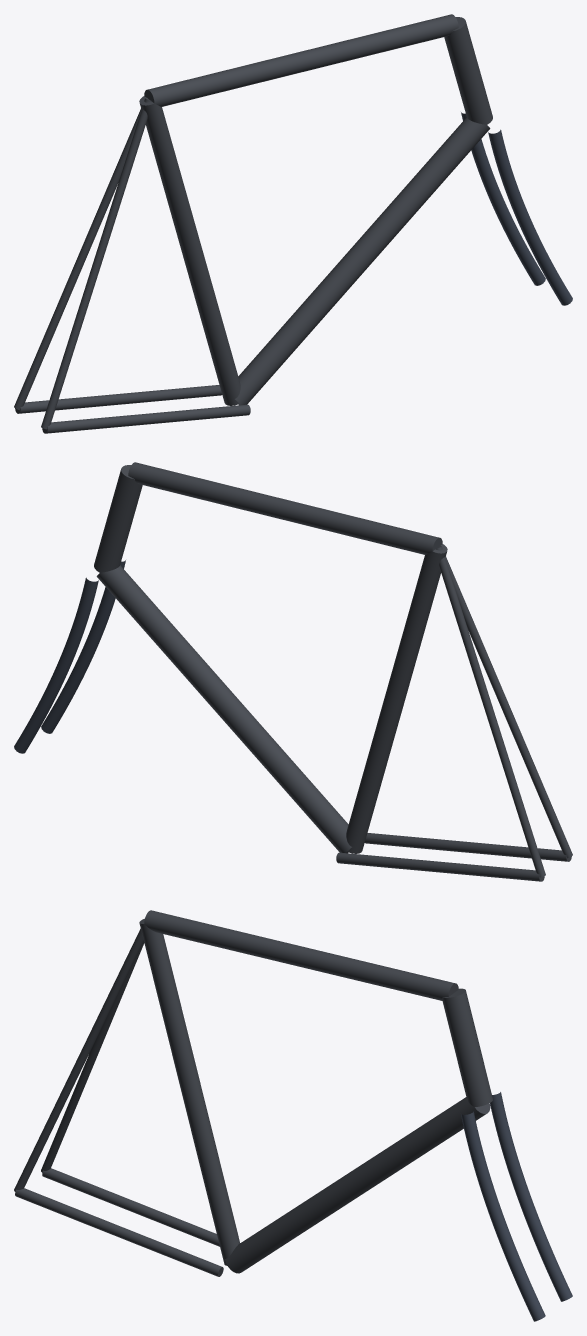
Rendered from skream-magnum-xl.glb.
3 renders of one model, top to bottom at view 1: azimuth 30°, elevation 25°; view 2: azimuth 150°, elevation 25°; view 3: azimuth 330°, elevation 25°, orthographic.
Visible parts, largest first — view 1: paint_down, paint_top, paint_seat, paint_seatstay_0.045, paint_seatstay_-0.045, paint_head, fork_0.045, paint_chainstay_0.045, paint_chainstay_-0.045, fork_-0.045; view 2: paint_down, paint_top, paint_seat, paint_seatstay_-0.045, paint_seatstay_0.045, paint_head, fork_-0.045, paint_chainstay_-0.045, paint_chainstay_0.045, fork_0.045; view 3: paint_down, paint_seat, paint_top, fork_0.045, paint_head, fork_-0.045, paint_seatstay_0.045, paint_chainstay_0.045, paint_chainstay_-0.045, paint_seatstay_-0.045.
Part boxes in pixels (<box>): paint_down: <box>235,117,490,405</box>; paint_top: <box>144,14,458,106</box>; paint_seat: <box>139,96,240,405</box>; paint_seatstay_0.045: <box>41,98,150,429</box>; paint_seatstay_-0.045: <box>14,97,148,410</box>; paint_head: <box>444,17,492,124</box>; fork_0.045: <box>488,129,572,305</box>; paint_chainstay_0.045: <box>42,404,250,433</box>; paint_chainstay_-0.045: <box>15,385,222,413</box>; fork_-0.045: <box>461,112,545,285</box>; paint_down: <box>96,565,351,853</box>; paint_top: <box>128,462,442,554</box>; paint_seat: <box>346,544,447,853</box>; paint_seatstay_-0.045: <box>436,546,545,877</box>; paint_seatstay_0.045: <box>438,545,572,858</box>; paint_head: <box>94,465,142,572</box>; fork_-0.045: <box>14,577,98,753</box>; paint_chainstay_-0.045: <box>336,852,544,881</box>; paint_chainstay_0.045: <box>364,833,571,861</box>; fork_0.045: <box>41,560,125,733</box>; paint_down: <box>225,1097,490,1273</box>; paint_seat: <box>139,918,239,1265</box>; paint_top: <box>144,910,458,1000</box>; fork_0.045: <box>461,1111,545,1321</box>; paint_head: <box>442,988,492,1107</box>; fork_-0.045: <box>490,1092,572,1301</box>; paint_seatstay_0.045: <box>14,928,143,1191</box>; paint_chainstay_0.045: <box>15,1188,223,1276</box>; paint_chainstay_-0.045: <box>42,1168,219,1246</box>; paint_seatstay_-0.045: <box>41,941,144,1172</box>.
Size of the model in its own units: 1.02 by 0.623 by 0.112.
